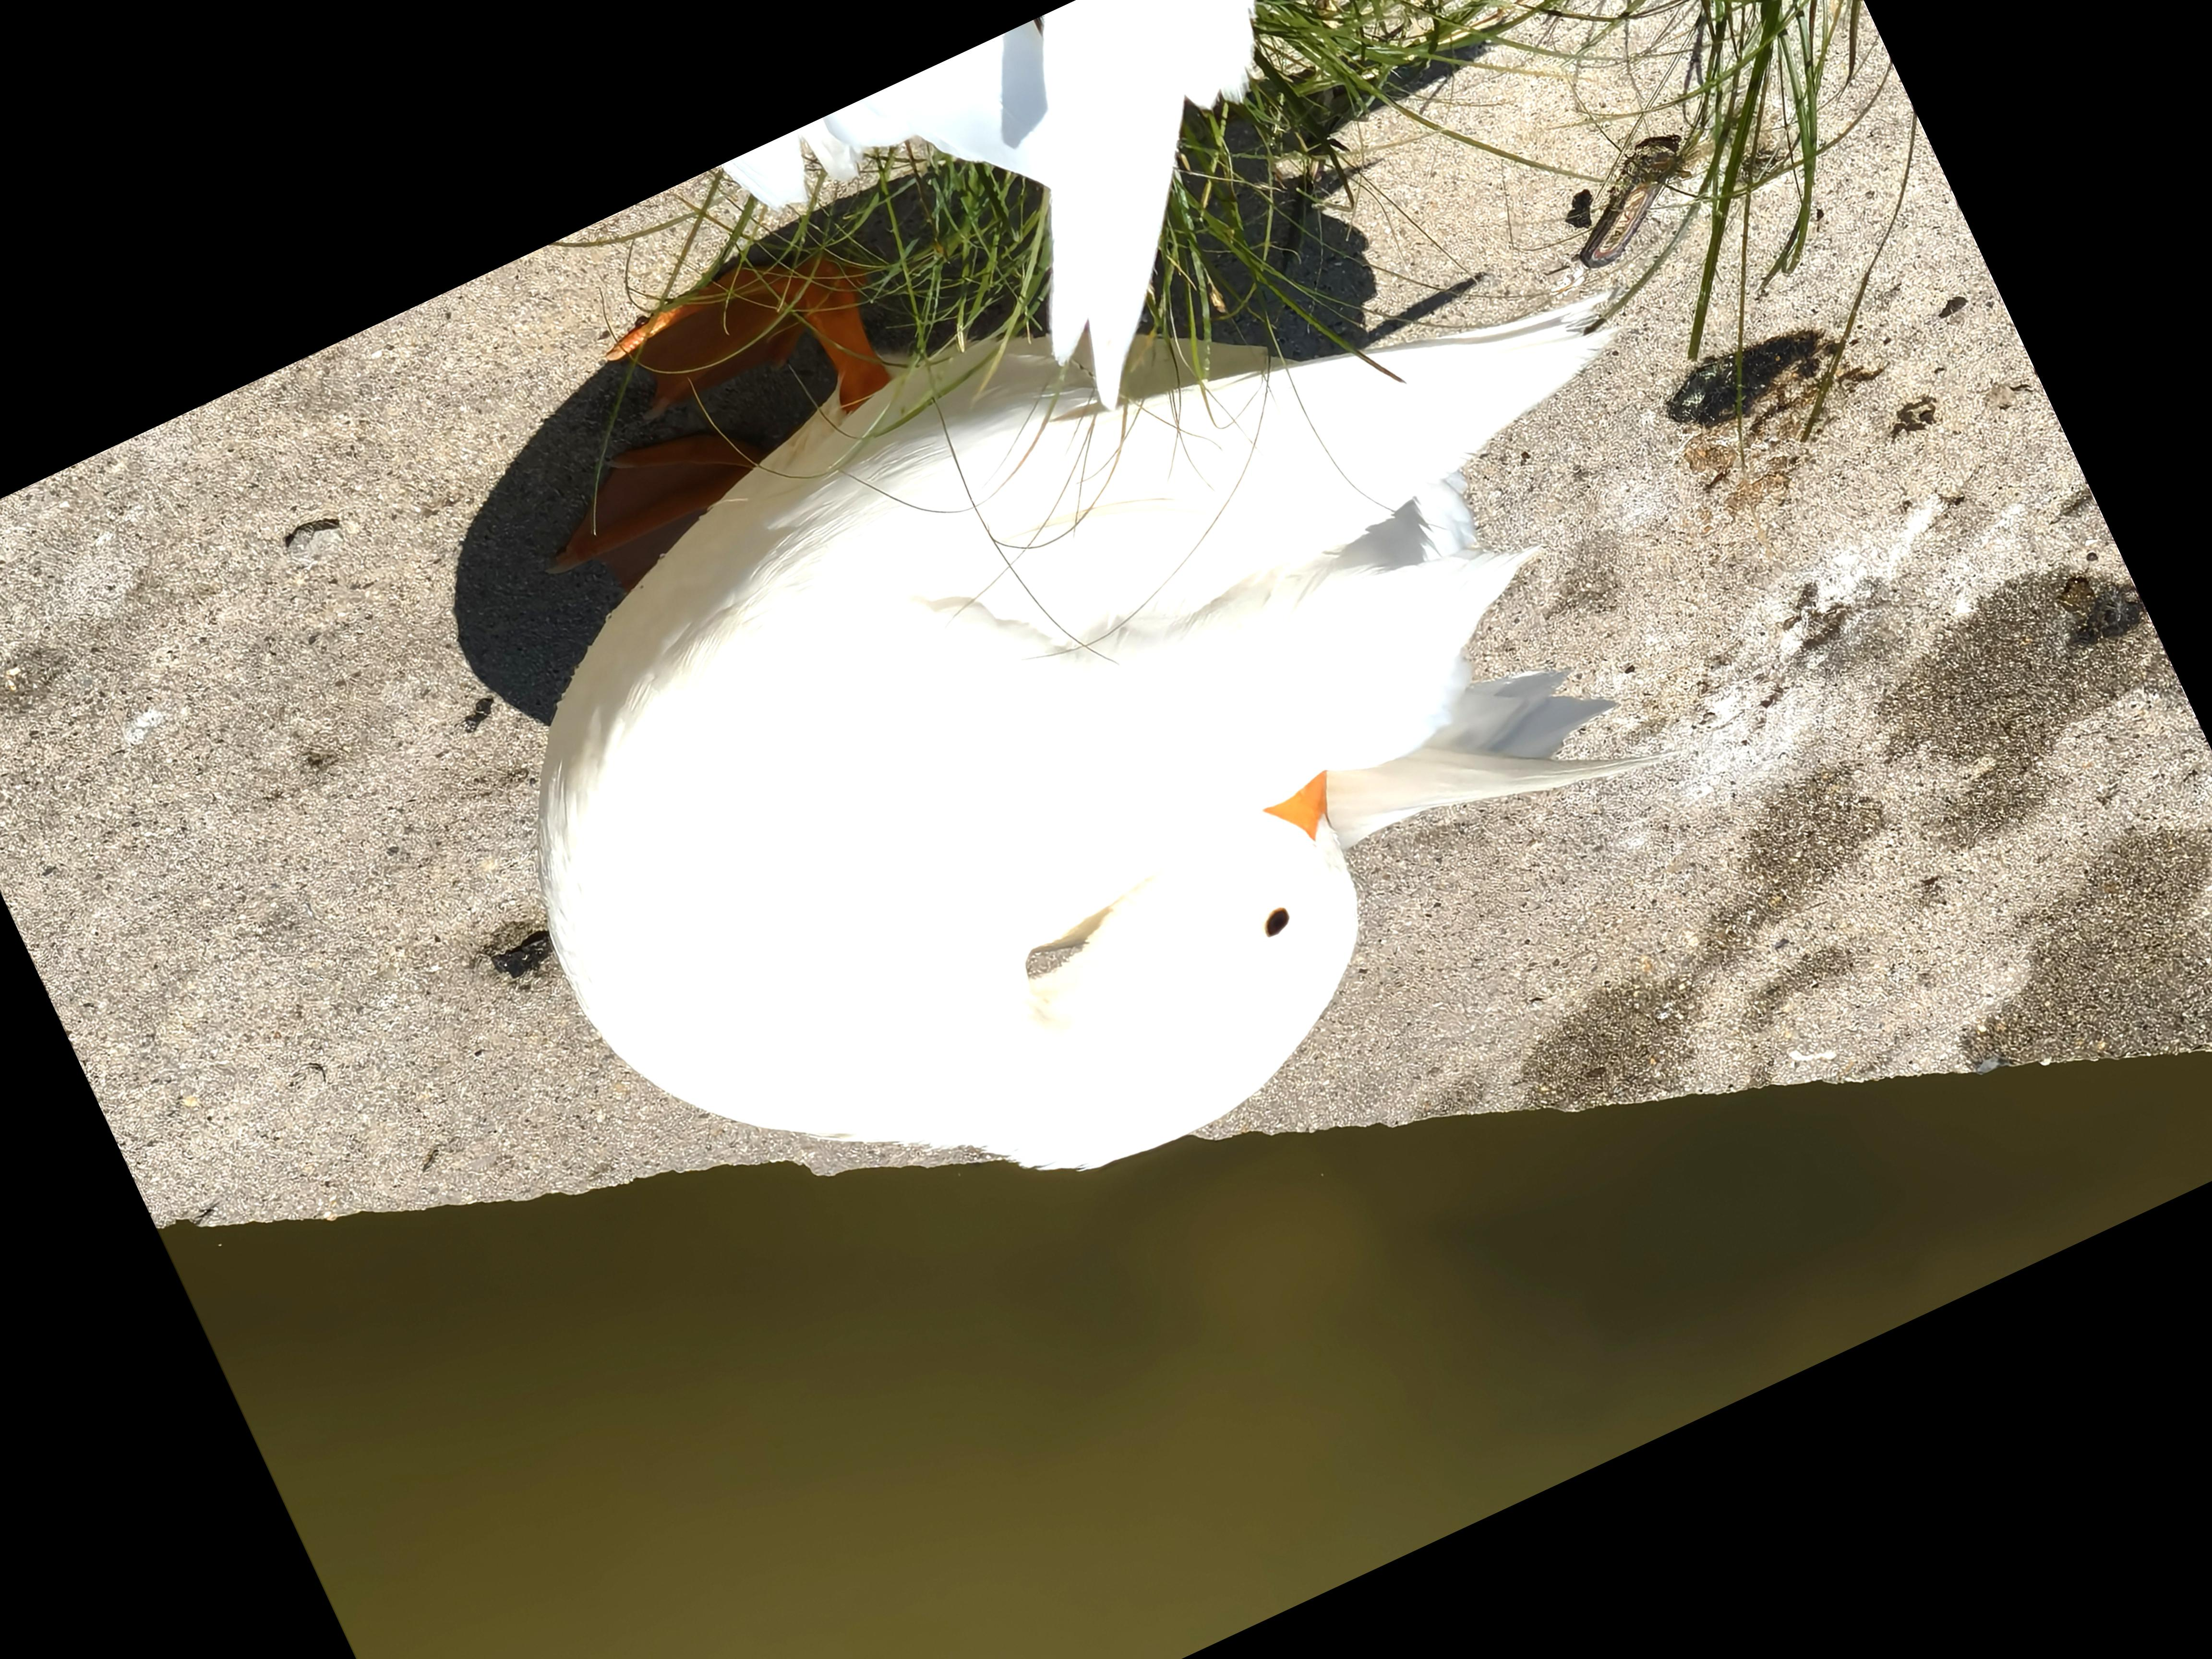duck: (282, 0, 1841, 1403)
